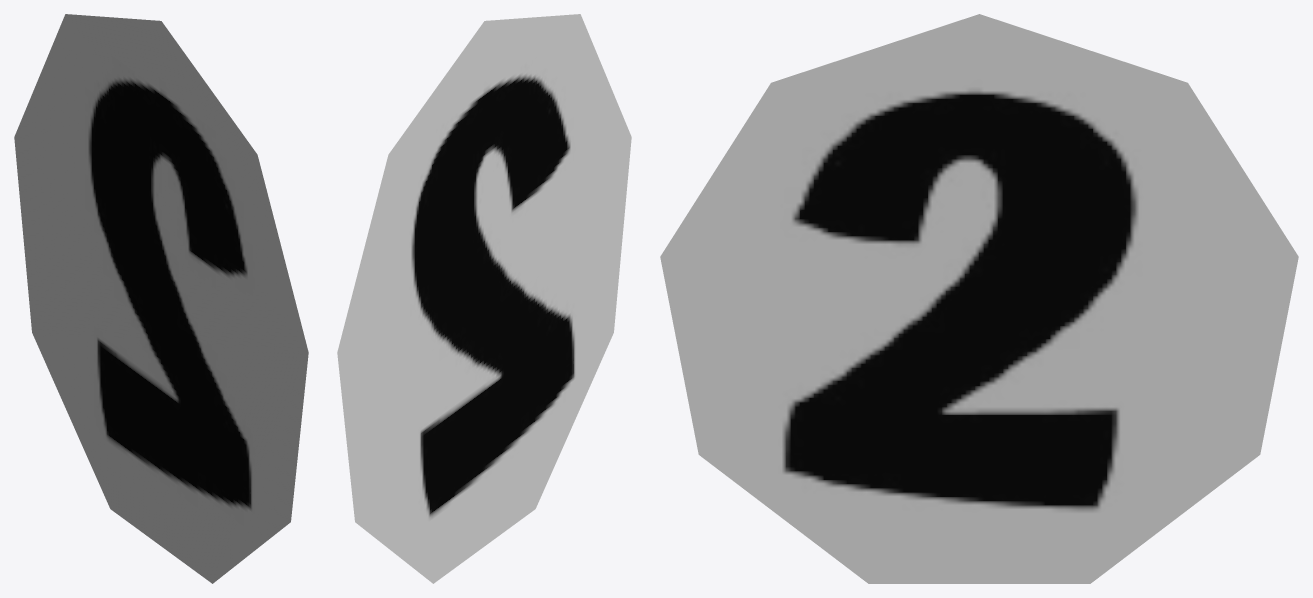
The picture shows the model from 3 angles, left to right: view 1: azimuth 30°, elevation 25°; view 2: azimuth 150°, elevation 25°; view 3: azimuth 270°, elevation 25°; orthographic projection. The views are drawn at different scales.
Parts seen in each view (by area): view 1: one; view 2: one; view 3: one.
Boxes of the visible parts, x1=… form: one: x1=14, y1=14, x2=308, y2=583; one: x1=337, y1=14, x2=631, y2=583; one: x1=660, y1=14, x2=1298, y2=583.
Size of the model in its own units: 1.07e-08 by 0.2459 by 0.2497.
1 material, 1 textured.
